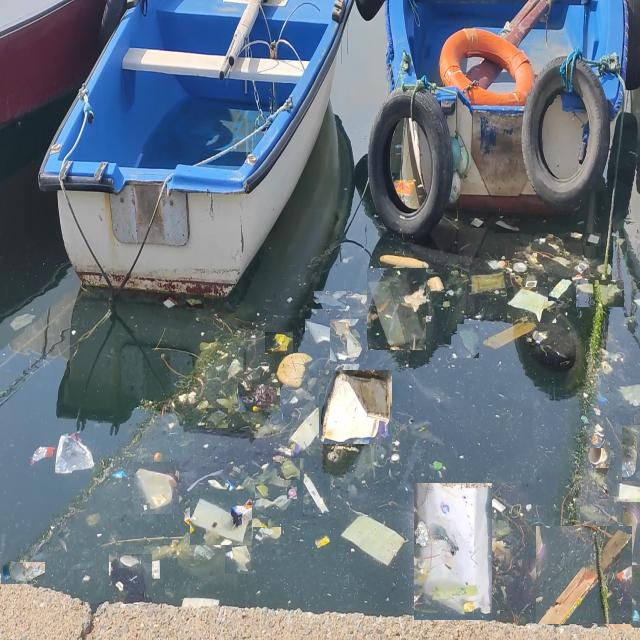Bottle cap: (287, 487, 297, 499), (390, 452, 400, 464), (274, 453, 284, 463), (344, 290, 354, 298)
Juice box: (183, 496, 212, 530)
Plastic: (367, 268, 426, 350), (338, 513, 406, 568), (194, 494, 253, 547), (190, 495, 252, 545), (507, 287, 556, 323), (330, 319, 366, 364), (576, 280, 624, 307), (303, 473, 330, 516), (404, 304, 433, 337), (469, 270, 506, 295), (305, 319, 338, 345), (250, 493, 294, 512), (225, 543, 251, 574), (458, 324, 480, 358), (9, 309, 36, 332), (313, 291, 346, 309), (548, 277, 572, 301), (254, 527, 282, 544), (206, 408, 228, 428), (208, 477, 236, 492), (494, 219, 520, 233), (119, 554, 140, 568), (150, 558, 162, 580), (186, 295, 204, 309), (255, 484, 270, 498), (586, 233, 601, 246), (470, 218, 484, 228)
Plastic bag: (144, 526, 220, 579), (109, 554, 152, 604), (238, 382, 280, 412)
Plastic bottle: (623, 502, 640, 565), (622, 425, 640, 481), (1, 562, 45, 584)
Plastic cup: (588, 441, 610, 468), (280, 458, 300, 480), (596, 261, 613, 277), (524, 272, 538, 291), (512, 262, 527, 274)
Plastic packaging: (134, 462, 179, 514), (54, 427, 96, 477), (28, 442, 56, 468), (528, 558, 552, 586), (266, 332, 294, 354), (476, 554, 492, 585), (340, 353, 362, 375), (247, 518, 268, 539), (227, 358, 243, 383), (428, 488, 446, 504), (314, 534, 331, 550), (588, 433, 604, 448), (111, 469, 127, 482)
Undefined trash: (414, 483, 492, 620), (319, 370, 392, 444)
Wood: (536, 526, 632, 624), (482, 318, 538, 350)
